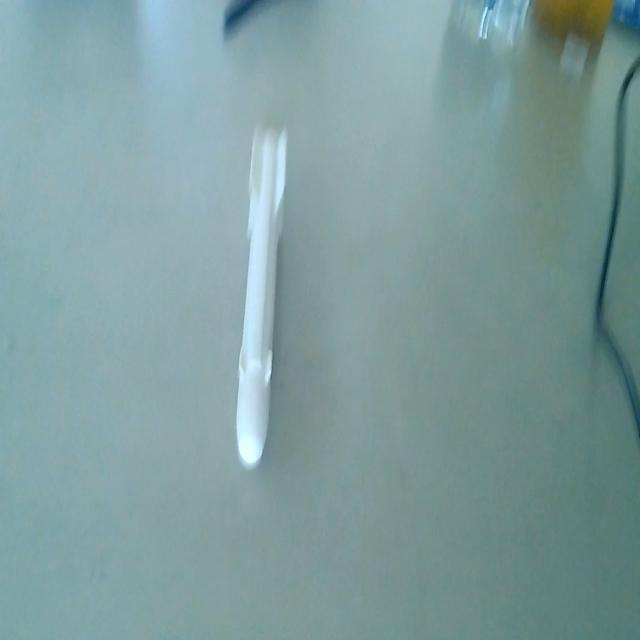Rocket: (235, 123, 291, 482)
